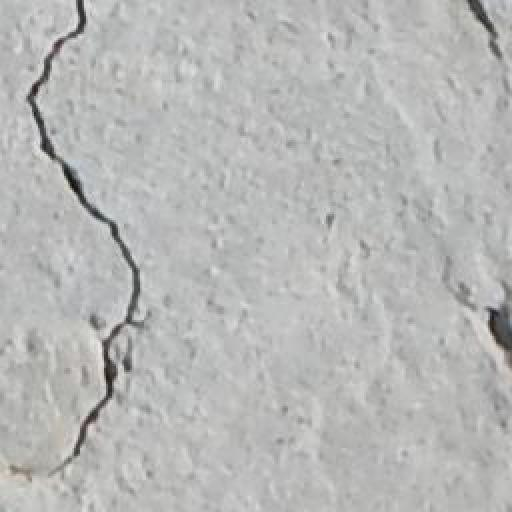spalling: (11, 7, 172, 497), (455, 5, 512, 77)
